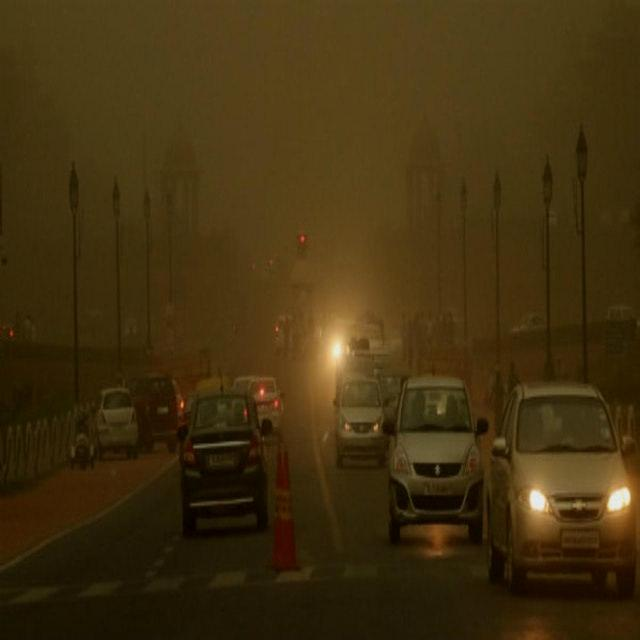Car: (488, 382, 638, 590), (382, 373, 490, 543), (178, 386, 273, 536), (331, 374, 386, 467), (129, 371, 179, 456), (92, 388, 139, 462), (248, 375, 285, 437), (605, 304, 638, 326), (122, 314, 140, 342)
Cycle: (67, 406, 95, 468)
